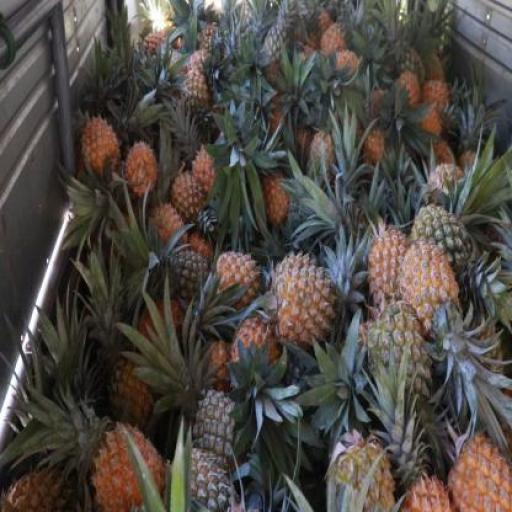------------------------------: (413, 207, 479, 321), (368, 307, 437, 407), (106, 360, 157, 434), (183, 66, 216, 124)
Pineapple - v8 v1: (91, 424, 167, 511), (400, 244, 462, 346), (274, 256, 338, 350), (368, 230, 418, 319), (232, 320, 278, 400), (83, 116, 123, 177), (216, 251, 259, 307), (170, 168, 208, 215), (126, 138, 155, 198)
